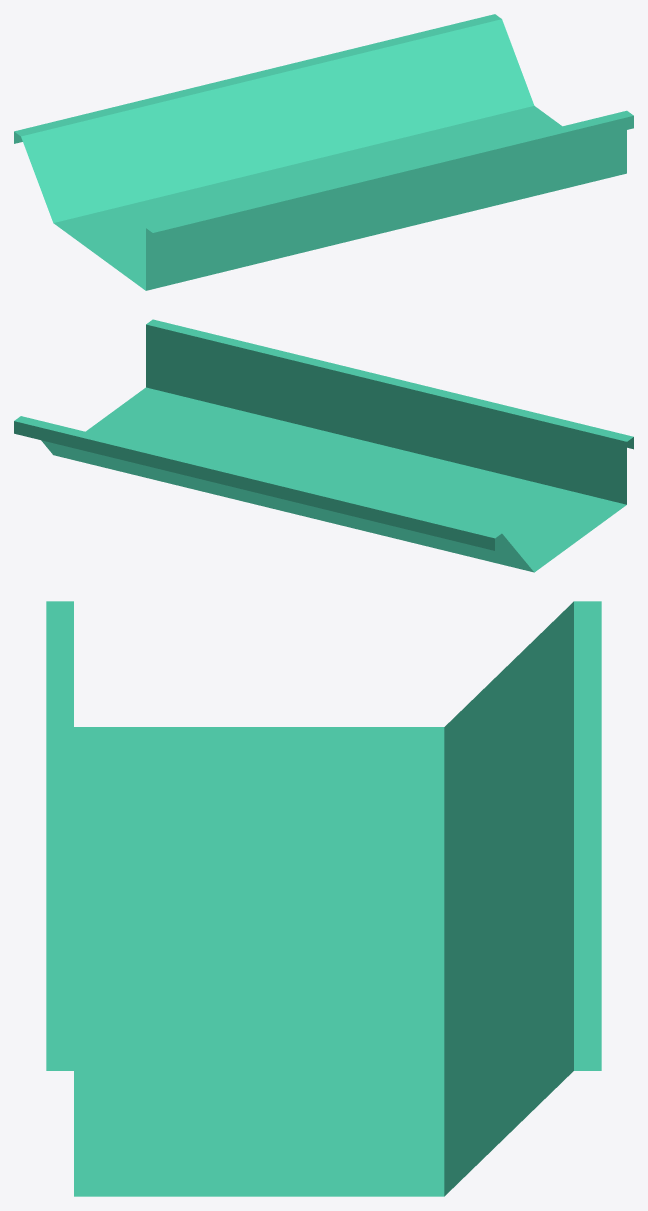
The model's file is Floor_4x2m_A.FBX.
3 views of the same model, one above another, from view 1: azimuth 30°, elevation 25°; view 2: azimuth 150°, elevation 25°; view 3: azimuth 270°, elevation 25° (orthographic). The views are drawn at different scales.
Visible parts, largest first — view 1: Floor_4x2m_A; view 2: Floor_4x2m_A; view 3: Floor_4x2m_A.
Boxes of the visible parts, x1=… form: Floor_4x2m_A: x1=14, y1=14, x2=633, y2=290; Floor_4x2m_A: x1=14, y1=319, x2=633, y2=572; Floor_4x2m_A: x1=46, y1=601, x2=601, y2=1196.
Size of the model in its own units: 400 by 50 by 200.
